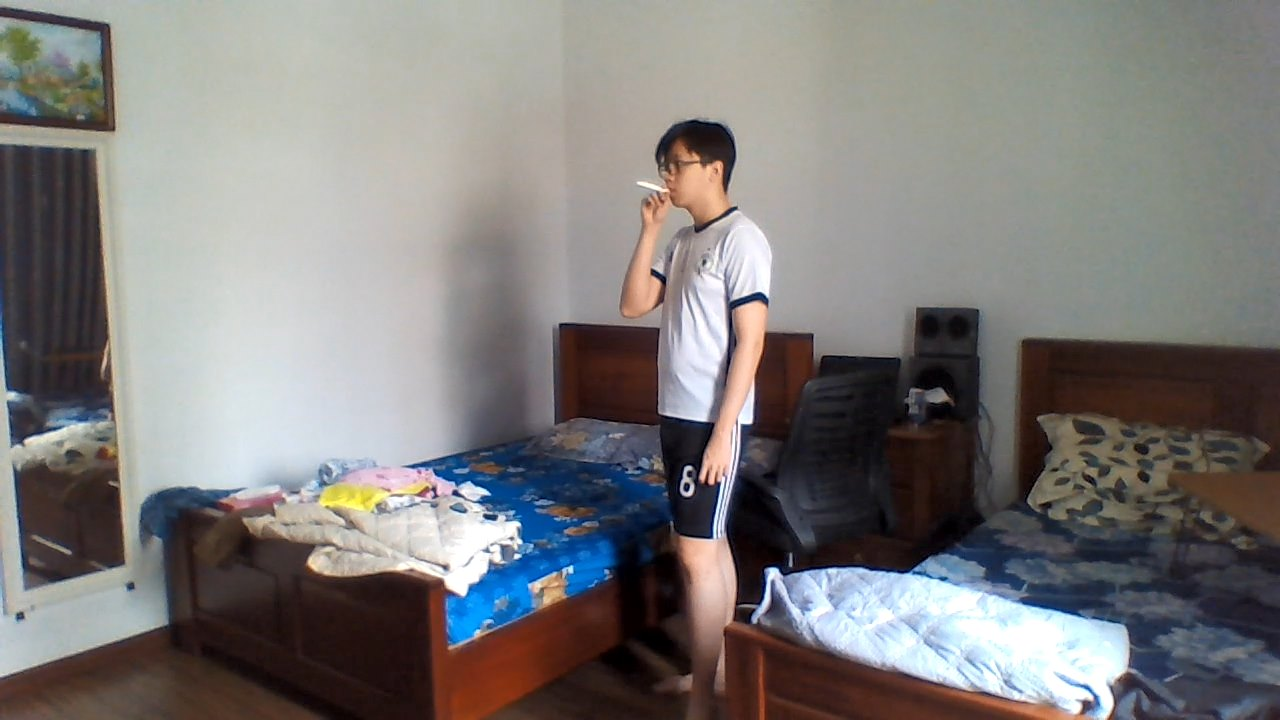cigarette: (631, 176, 672, 194)
person: (616, 104, 788, 720)
